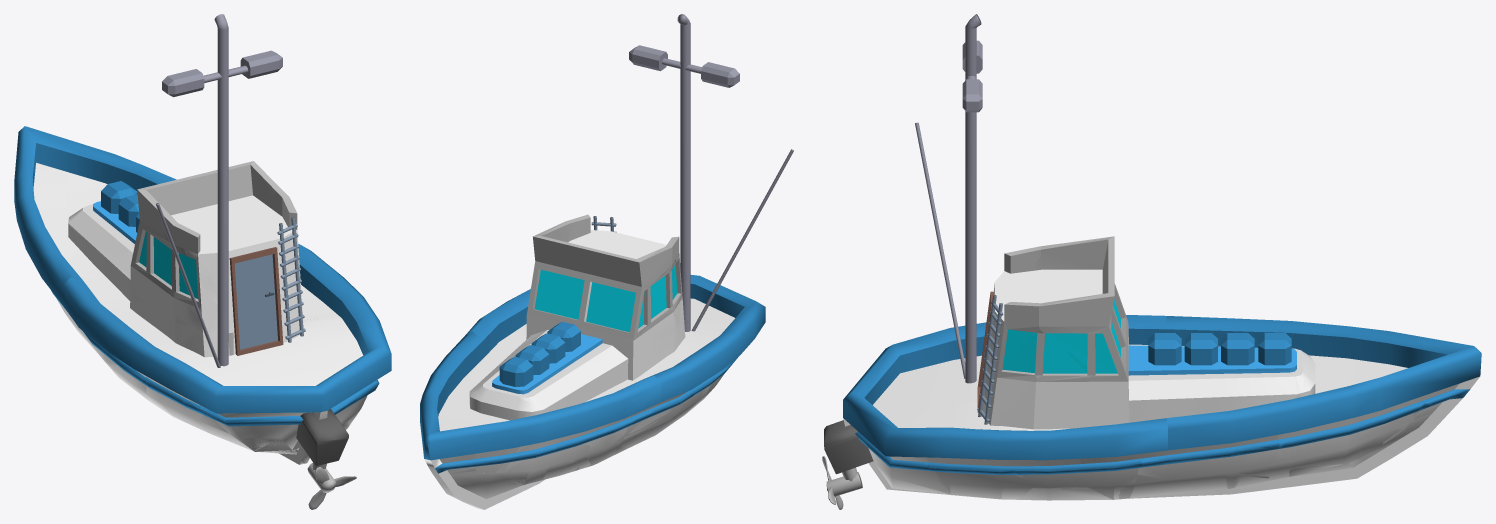
File: FragmentedBoat_Colored_cell.fbx
3 renders of one model, left to right at view 1: azimuth 30°, elevation 25°; view 2: azimuth 150°, elevation 25°; view 3: azimuth 270°, elevation 25°, orthographic. The views are drawn at different scales.
Parts seen in each view (by area): view 1: cabin, hull_down, hull_up, hull_down.001, macht, engine_low, cabin_cell.002, hull_up_cell.001, hull_up_cell.011, wint, cabin_cell.008, cabin_cell (+14 smaller); view 2: cabin, hull_up, hull_down.001, hull_down, macht, engine_low, cabin_cell.002, hull_up_cell.005, engine_low_cell.003, hull_up_cell.017, motor, hull_up_cell.010 (+12 smaller); view 3: hull_up, cabin, hull_down.001, hull_down, macht, engine_low, hull_up_cell.015, engine_low_cell.003, hull_up_cell.004, cabin_cell.002, engine_low_cell.001, hull_up_cell (+20 smaller).
Boxes of the visible parts, x1,y1,x2,y2 form: cabin: [130, 161, 303, 356]; hull_down: [62, 244, 391, 413]; hull_up: [34, 173, 379, 464]; hull_down.001: [14, 126, 176, 304]; macht: [156, 14, 282, 367]; engine_low: [68, 201, 135, 300]; cabin_cell.002: [131, 190, 234, 333]; hull_up_cell.001: [143, 345, 303, 464]; hull_up_cell.011: [199, 403, 348, 456]; wint: [296, 409, 348, 465]; cabin_cell.008: [174, 226, 269, 328]; cabin_cell: [233, 303, 303, 355]; cabin: [526, 214, 685, 380]; hull_up: [424, 298, 736, 509]; hull_down.001: [420, 331, 661, 460]; hull_down: [465, 275, 765, 401]; macht: [629, 14, 793, 331]; engine_low: [469, 329, 628, 420]; cabin_cell.002: [611, 247, 683, 345]; hull_up_cell.005: [598, 356, 724, 455]; engine_low_cell.003: [470, 359, 581, 412]; hull_up_cell.017: [586, 395, 634, 467]; motor: [499, 356, 533, 386]; hull_up_cell.010: [497, 419, 557, 485]; hull_up: [843, 355, 1479, 499]; cabin: [977, 236, 1129, 429]; hull_down.001: [1166, 316, 1481, 450]; hull_down: [843, 315, 1167, 460]; macht: [915, 14, 982, 383]; engine_low: [1128, 345, 1315, 422]; hull_up_cell.015: [1135, 446, 1278, 496]; engine_low_cell.003: [1212, 346, 1303, 411]; hull_up_cell.004: [926, 426, 1030, 499]; cabin_cell.002: [1030, 239, 1128, 348]; engine_low_cell.001: [1128, 344, 1220, 417]; hull_up_cell: [866, 443, 950, 494].
Size of the model in its own units: 154 by 268 by 333.
